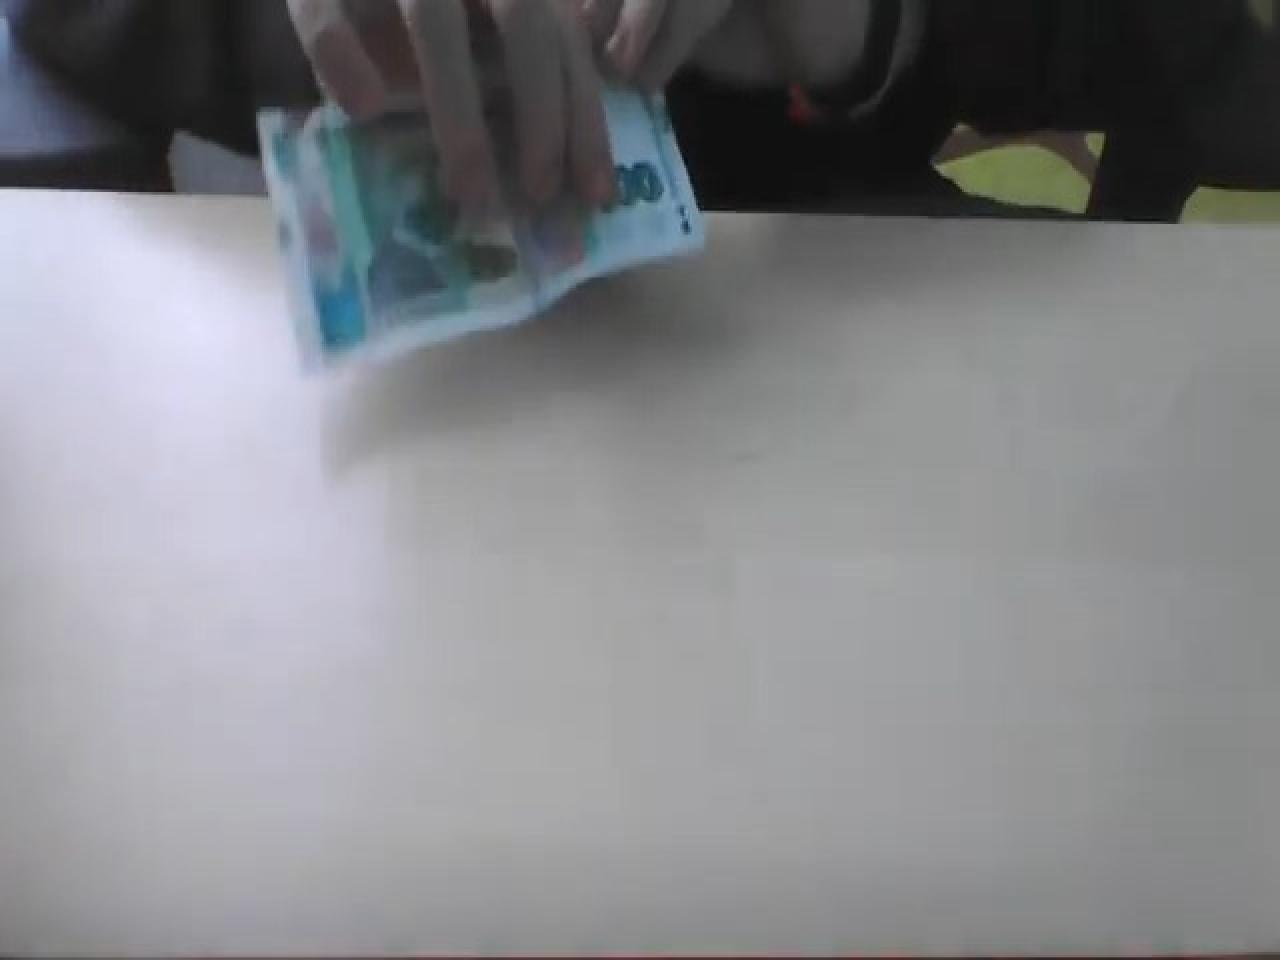100leva: (254, 62, 706, 373)
